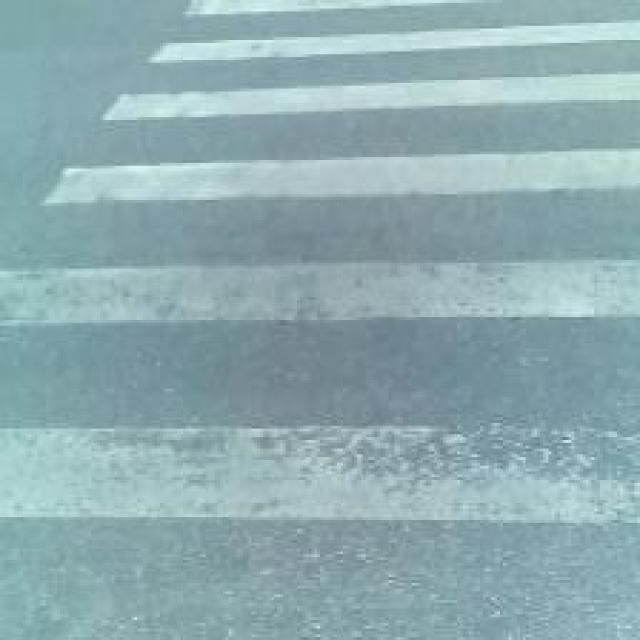walk-crossing: (0, 5, 621, 640)
